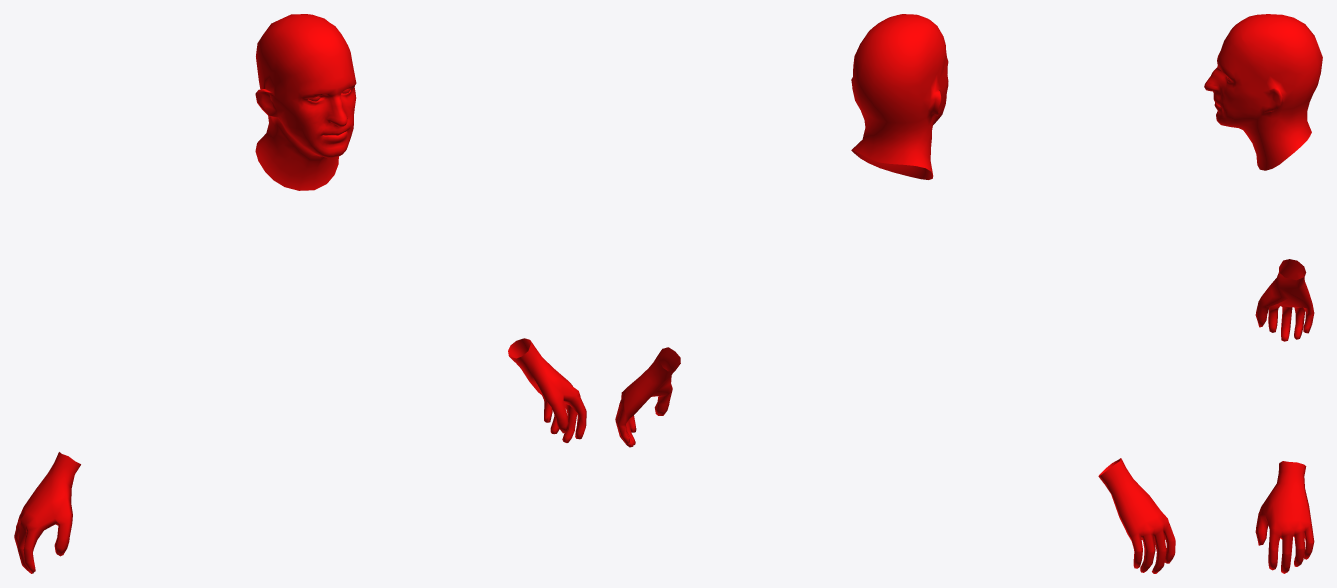
File: head_000_r_high.FBX
3 renders of one model, left to right at view 1: azimuth 30°, elevation 25°; view 2: azimuth 150°, elevation 25°; view 3: azimuth 270°, elevation 25°, orthographic. The views are drawn at different scales.
Visible parts, largest first — view 1: head_000_r_high; view 2: head_000_r_high; view 3: head_000_r_high.
Boxes of the visible parts, left/top/right/bottom form: head_000_r_high: left=14, top=14, right=586, bottom=573; head_000_r_high: left=615, top=14, right=1175, bottom=573; head_000_r_high: left=1204, top=14, right=1322, bottom=573.
Bounding box in the file's own units: 1.19 × 0.9971 × 0.2441.
